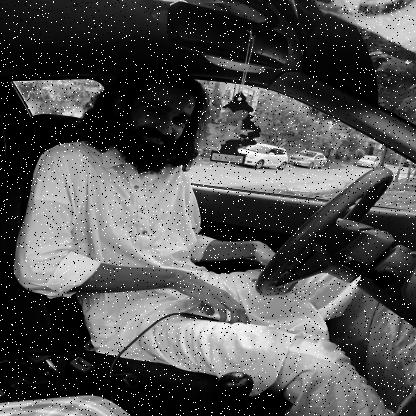no_seatbelt: (77, 68, 223, 262)
